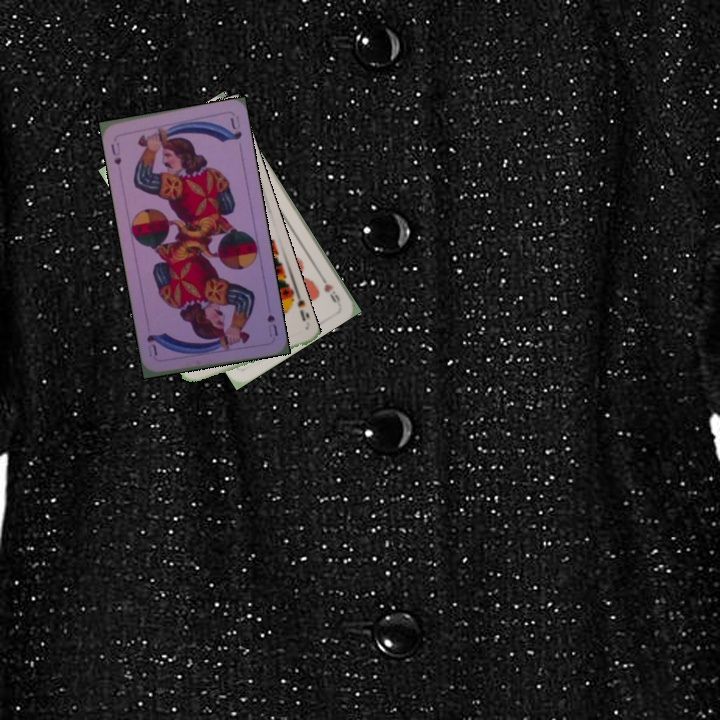H9: (315, 270, 343, 307)
S9: (283, 289, 311, 324)
SU: (263, 310, 281, 339), (106, 138, 124, 167)
